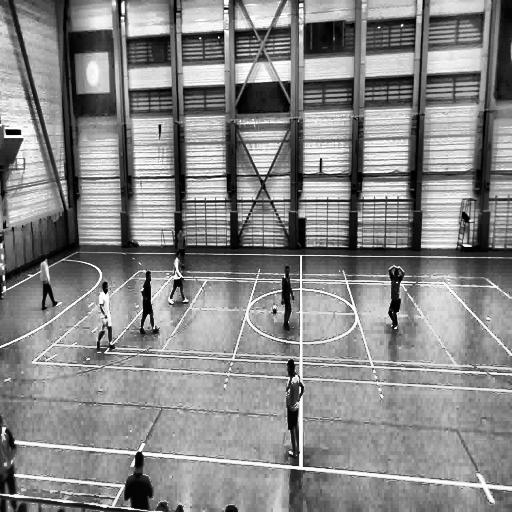ball: (273, 304, 278, 312)
player: (282, 356, 304, 461), (0, 415, 18, 508), (97, 280, 116, 350), (139, 270, 159, 334), (386, 264, 405, 331), (40, 256, 60, 310), (169, 252, 188, 306), (281, 264, 294, 332), (175, 226, 187, 270)
